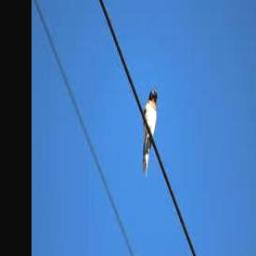Swallow: (141, 89, 158, 176)
